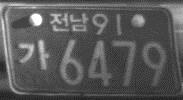1: (113, 12, 124, 37)
4: (85, 38, 112, 87)
6: (58, 38, 84, 85)
7: (111, 39, 136, 88)
9: (140, 40, 166, 87), (90, 12, 110, 35)
가: (18, 37, 49, 70)
전남_O: (48, 11, 88, 32)
